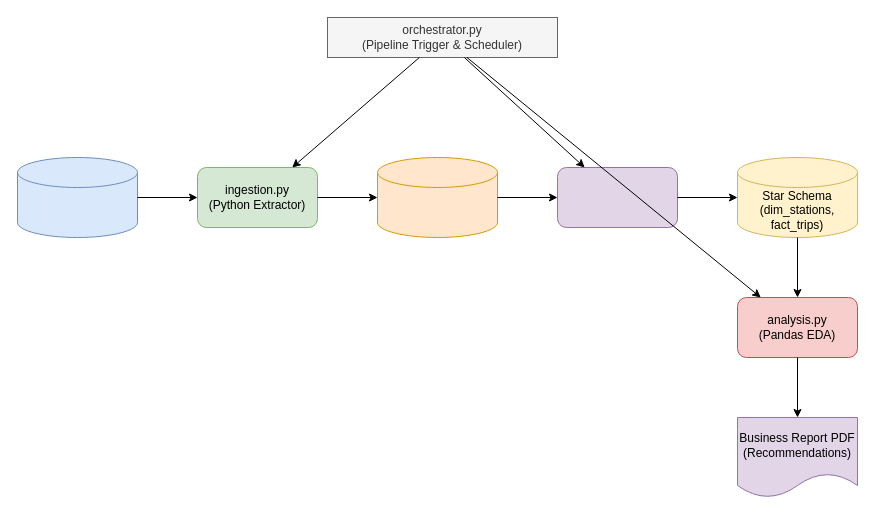
Some shapes in this 875 by 515 pixel diagram are drawn without their labels. The shapes that lost their labels are listed below. From the top down, each one's centre as x and y in pixels, then its label:
At pixel 77 197: "Google BigQuery (Source Data)".
At pixel 437 197: "DuckDB (Data Warehouse) raw_* tables".
At pixel 617 197: "elt_pipeline.py (ELT & DQ Tests)".
